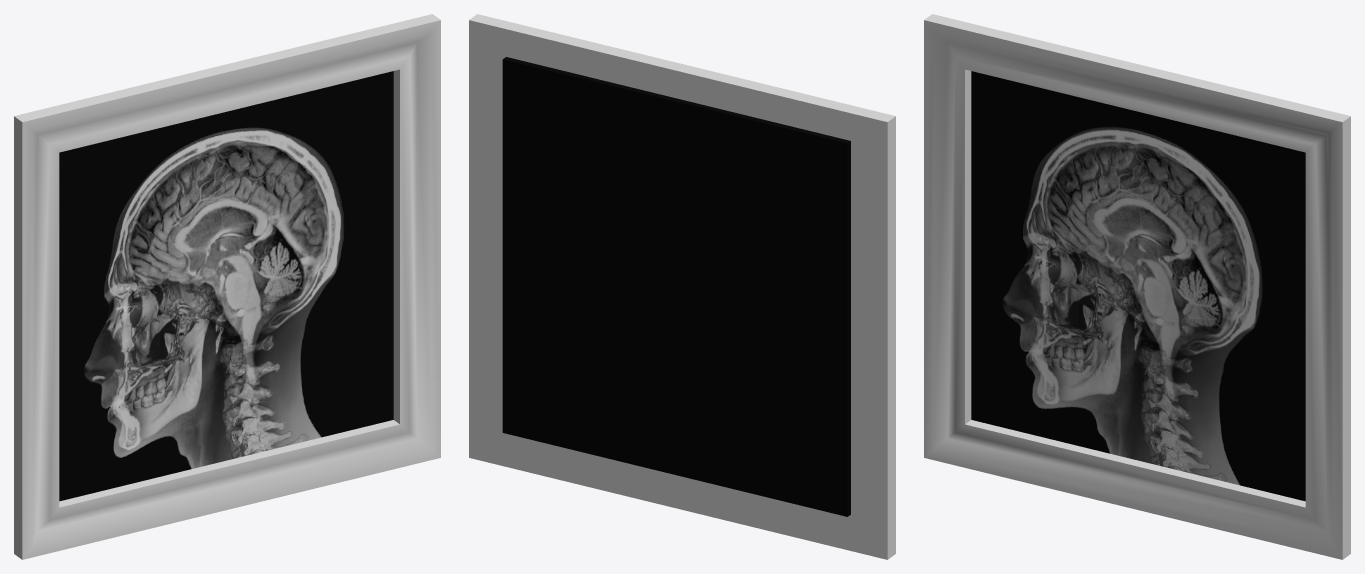
Rendered from xray_skull.FBX.
3 renders of one model, left to right at view 1: azimuth 30°, elevation 25°; view 2: azimuth 150°, elevation 25°; view 3: azimuth 330°, elevation 25°, orthographic.
Parts seen in each view (by area): view 1: canvas_xray_skull, frame_xray_skull; view 2: canvas_xray_skull, frame_xray_skull; view 3: canvas_xray_skull, frame_xray_skull.
Boxes of the visible parts, <box> form: canvas_xray_skull: <box>59,71,393,501</box>; frame_xray_skull: <box>14,14,440,559</box>; canvas_xray_skull: <box>502,57,850,516</box>; frame_xray_skull: <box>469,14,895,559</box>; canvas_xray_skull: <box>971,71,1305,501</box>; frame_xray_skull: <box>924,14,1350,559</box>.
Bounding box in the file's own units: 80.29 × 80.22 × 3.95.
Materials: 1 (1 with a texture image).
